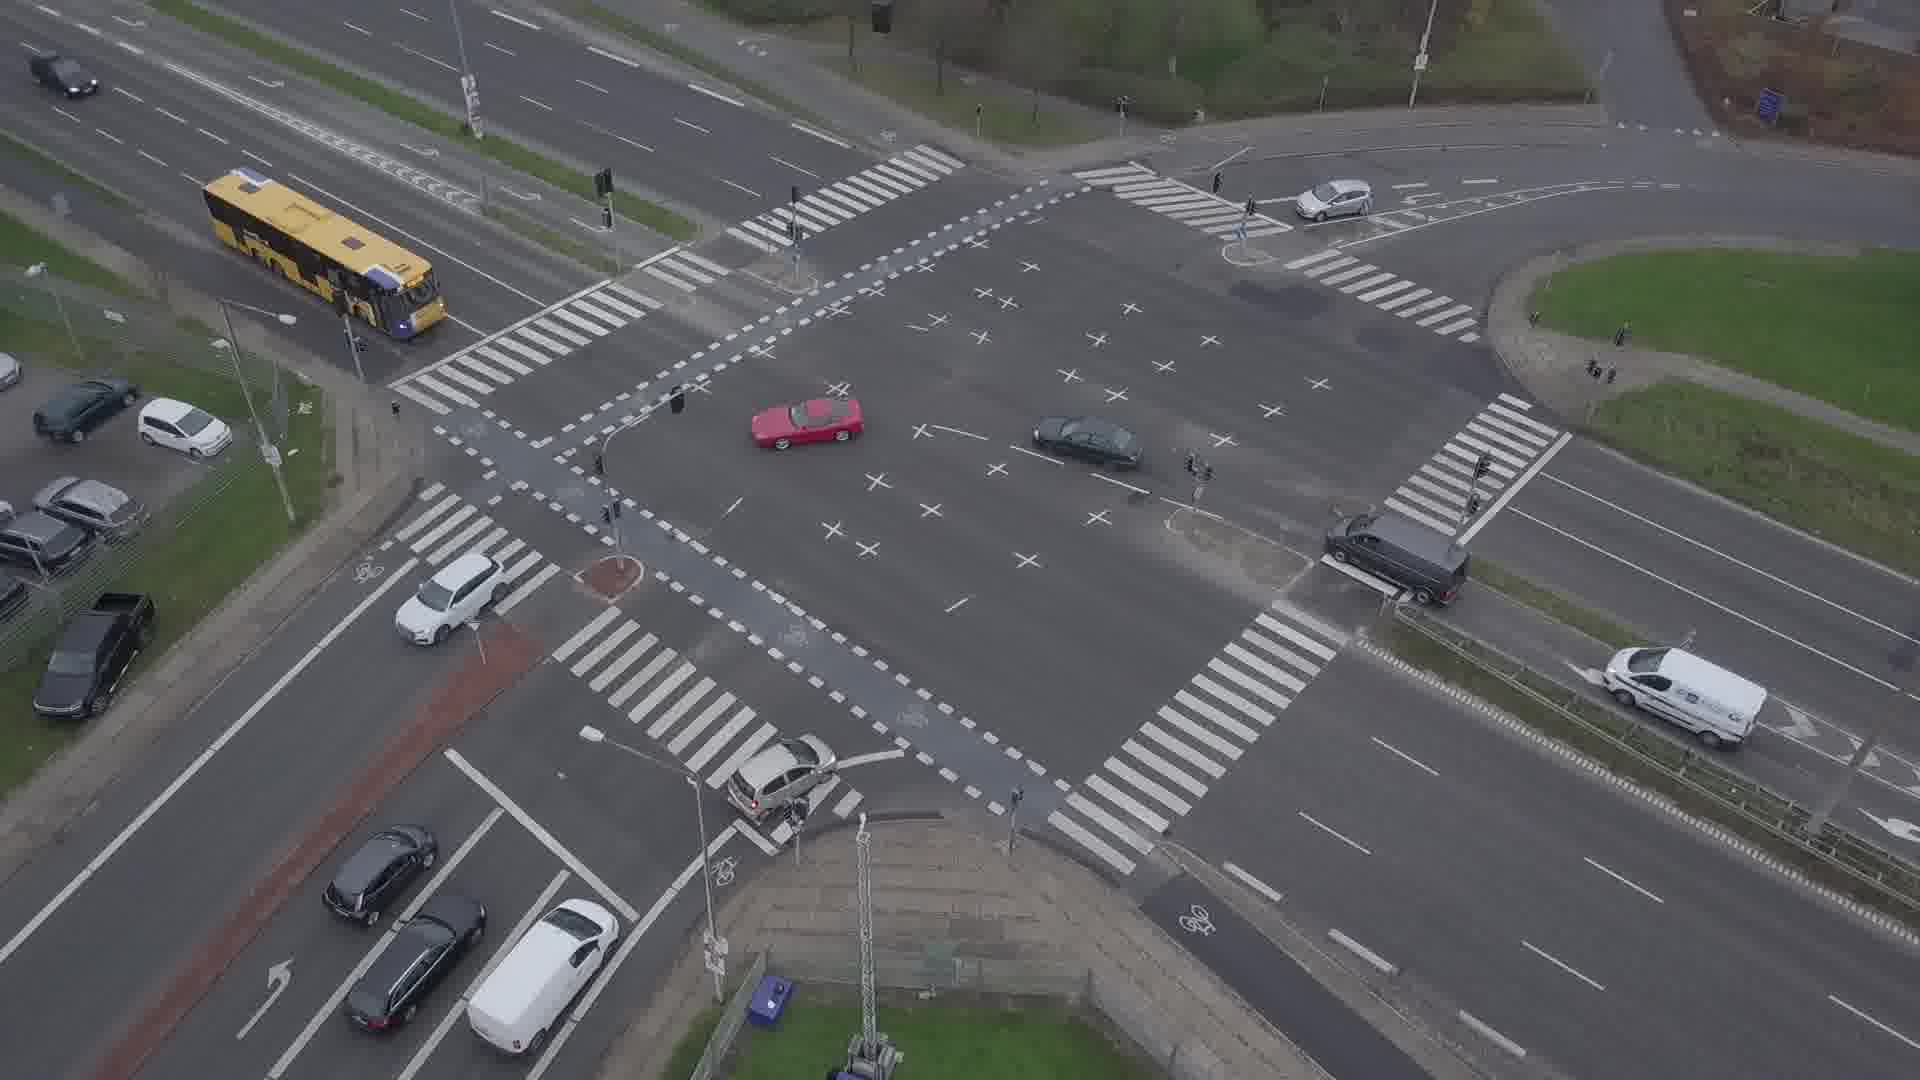car: (343, 891, 489, 1036), (320, 822, 439, 927), (394, 554, 508, 645), (728, 735, 837, 824), (1033, 417, 1145, 469), (750, 400, 864, 450), (32, 53, 102, 102), (1296, 179, 1374, 222)
